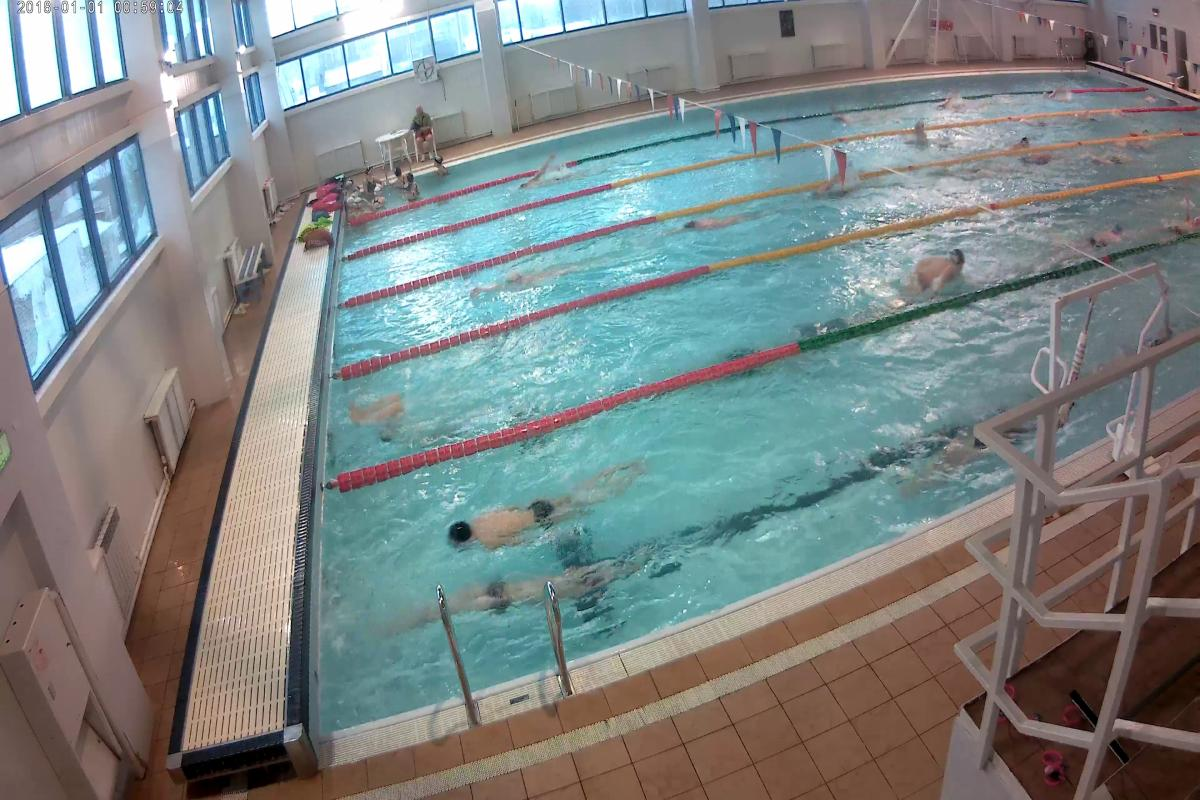swimmer: (454, 465, 643, 538), (464, 558, 652, 605), (472, 253, 606, 292), (900, 435, 982, 485), (363, 398, 444, 448), (895, 247, 956, 312), (1058, 220, 1126, 261), (671, 214, 778, 233), (1013, 156, 1071, 174)
